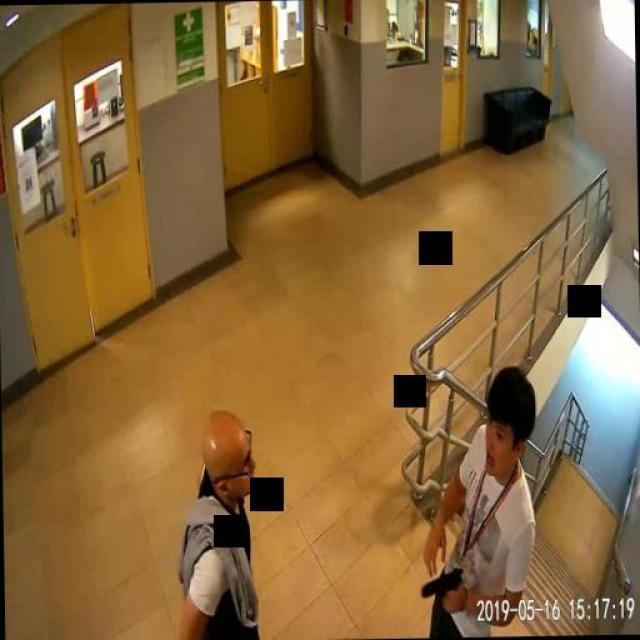gun: (420, 566, 462, 612)
